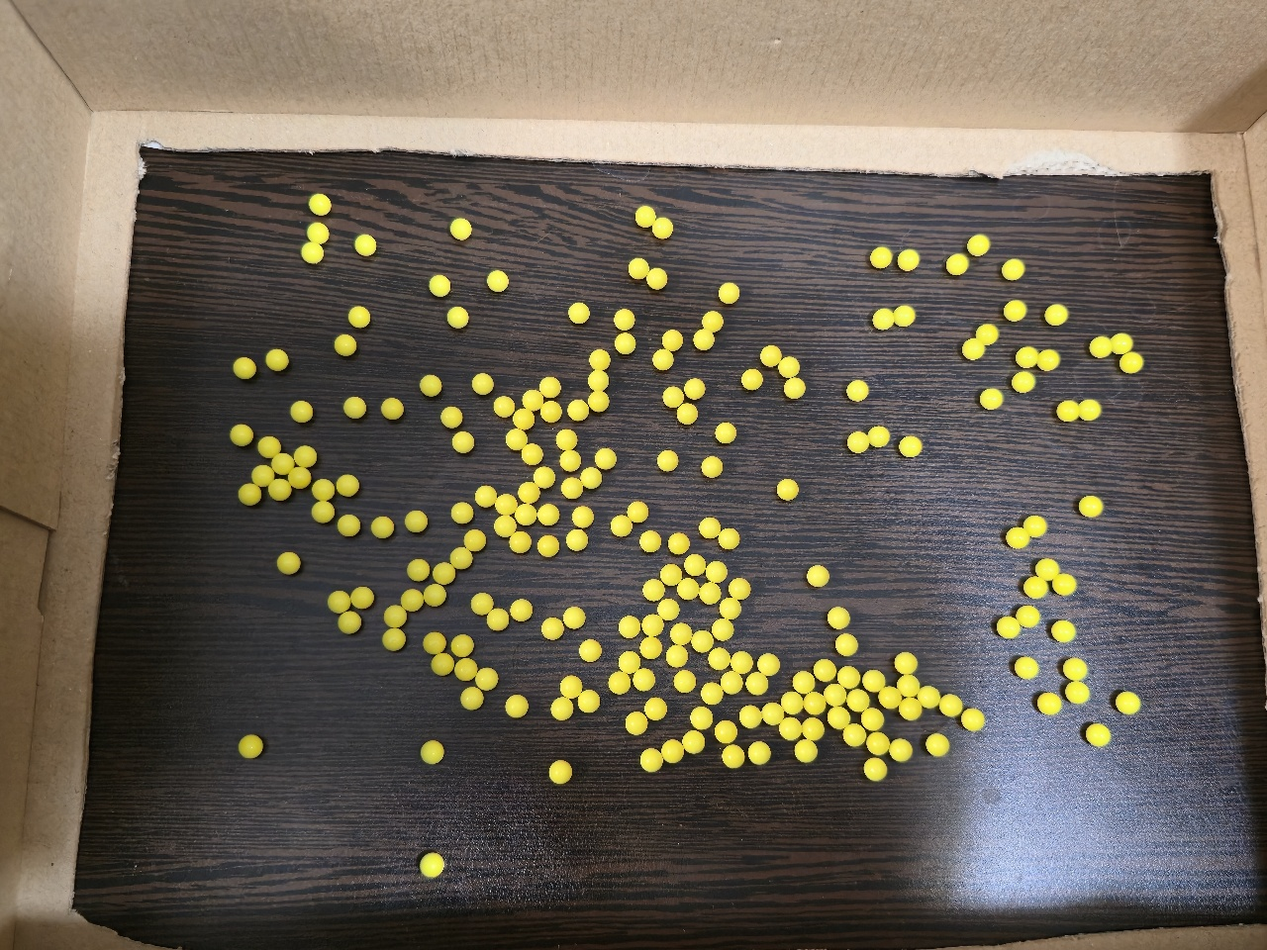yellow_bead: (967, 329, 993, 354), (1021, 352, 1053, 365), (1062, 405, 1096, 416), (1095, 340, 1121, 352), (426, 858, 439, 873), (1092, 728, 1106, 741), (1121, 697, 1135, 710), (244, 740, 257, 753), (931, 739, 944, 752), (1029, 582, 1043, 594), (1040, 564, 1054, 576), (869, 764, 882, 776), (872, 737, 884, 750), (944, 700, 957, 712), (1043, 699, 1056, 711), (786, 697, 798, 710), (1071, 687, 1084, 699), (798, 676, 810, 689), (1057, 625, 1070, 637), (1002, 621, 1015, 633), (897, 310, 910, 322), (1068, 664, 1082, 675), (554, 767, 566, 779), (753, 747, 765, 759), (800, 745, 812, 757), (895, 744, 907, 756), (849, 729, 861, 741), (785, 723, 797, 735), (968, 714, 980, 726), (867, 713, 879, 725), (809, 698, 821, 710), (852, 695, 864, 707), (923, 691, 935, 703), (829, 689, 841, 701), (903, 680, 915, 692), (751, 678, 763, 690), (1021, 662, 1033, 674), (900, 657, 912, 669), (714, 653, 726, 665), (388, 633, 400, 645), (717, 623, 729, 635), (645, 754, 656, 767), (1012, 532, 1025, 543), (1028, 521, 1041, 532), (1084, 501, 1097, 512), (878, 314, 891, 325), (1050, 309, 1063, 320), (1009, 305, 1022, 316), (307, 245, 318, 258), (427, 747, 438, 759), (666, 746, 677, 758), (688, 736, 699, 748), (833, 712, 845, 723), (905, 703, 916, 715), (511, 701, 523, 712), (583, 696, 594, 708), (466, 693, 477, 705), (884, 692, 896, 703), (614, 677, 625, 689), (679, 676, 690, 688), (868, 675, 880, 686), (638, 674, 649, 686), (481, 673, 492, 685), (842, 672, 854, 683), (671, 650, 682, 662), (697, 635, 708, 647), (675, 628, 687, 639), (1022, 611, 1034, 622), (389, 611, 401, 622), (476, 598, 487, 610), (406, 595, 418, 606), (704, 588, 716, 599), (318, 506, 329, 518), (872, 431, 884, 442), (973, 239, 985, 250), (744, 712, 757, 722), (985, 394, 998, 404), (1124, 357, 1137, 367), (807, 724, 818, 735), (696, 712, 707, 723), (556, 703, 567, 714), (565, 682, 576, 693), (819, 665, 830, 676), (460, 664, 471, 675), (735, 657, 746, 668), (841, 639, 852, 650), (546, 623, 557, 634), (663, 605, 674, 616), (356, 592, 367, 603), (429, 590, 440, 601), (648, 585, 659, 596), (683, 584, 694, 595), (813, 571, 824, 582), (413, 565, 424, 576), (690, 560, 701, 571), (455, 552, 466, 563), (469, 535, 480, 546), (571, 534, 582, 545), (456, 508, 467, 519), (480, 491, 491, 502), (274, 484, 285, 495), (341, 480, 352, 491), (538, 472, 549, 483), (257, 470, 268, 481), (905, 441, 916, 452), (511, 434, 522, 445), (1018, 376, 1029, 387), (271, 354, 282, 365), (952, 258, 963, 269), (876, 251, 887, 262), (360, 239, 371, 250), (728, 751, 738, 763), (631, 717, 641, 729), (766, 709, 778, 719), (726, 677, 736, 689), (763, 659, 773, 671), (624, 656, 634, 668), (645, 642, 655, 654), (647, 619, 657, 631), (832, 613, 844, 623), (725, 603, 735, 615), (334, 596, 344, 608), (299, 451, 311, 461), (852, 437, 864, 447), (593, 374, 603, 386), (1008, 264, 1020, 274), (903, 254, 915, 264), (313, 228, 323, 240), (721, 726, 731, 737), (707, 689, 717, 700), (585, 645, 595, 656), (458, 640, 468, 651), (429, 638, 439, 649), (624, 621, 634, 632), (343, 617, 354, 627), (492, 614, 503, 624), (568, 613, 579, 623), (516, 605, 526, 616), (734, 584, 744, 595), (665, 570, 676, 580), (439, 568, 449, 579), (711, 566, 721, 577), (283, 558, 294, 568), (542, 541, 553, 551), (515, 537, 525, 548), (645, 536, 655, 547), (343, 520, 354, 530), (411, 516, 422, 526), (577, 512, 588, 522), (521, 510, 532, 520), (500, 500, 511, 510), (524, 487, 534, 498), (318, 484, 329, 494), (277, 458, 288, 468), (600, 453, 611, 463), (263, 442, 274, 452), (457, 437, 468, 447), (296, 407, 307, 417), (573, 405, 583, 416), (349, 403, 360, 413), (852, 386, 863, 396), (477, 379, 488, 389), (452, 312, 462, 323), (354, 312, 364, 323), (455, 224, 466, 234), (315, 199, 325, 210), (708, 317, 717, 329), (650, 704, 660, 714), (673, 539, 683, 549), (705, 523, 715, 533), (377, 522, 387, 532), (500, 521, 510, 531), (543, 510, 553, 520), (782, 485, 792, 495), (586, 473, 596, 483), (707, 462, 717, 472), (662, 456, 672, 466), (565, 455, 575, 465), (561, 435, 571, 445), (236, 429, 246, 439), (721, 428, 731, 438), (519, 414, 529, 424), (446, 413, 456, 423), (682, 409, 692, 419), (545, 407, 555, 417), (387, 404, 397, 414), (593, 396, 603, 406), (668, 392, 678, 402), (789, 383, 799, 393), (426, 381, 436, 391), (747, 375, 757, 385), (239, 363, 249, 373), (595, 355, 605, 365), (658, 354, 668, 364), (340, 340, 350, 350), (621, 338, 631, 348), (667, 335, 677, 345), (574, 308, 584, 318), (493, 276, 503, 286), (634, 263, 644, 273), (657, 223, 667, 233), (640, 211, 650, 221), (437, 659, 446, 670), (724, 533, 733, 544), (566, 484, 577, 493), (699, 333, 708, 344), (435, 280, 444, 291), (616, 522, 626, 531), (633, 508, 642, 518), (244, 489, 253, 499), (527, 449, 536, 459), (499, 402, 509, 411), (528, 395, 537, 405), (544, 383, 554, 392), (784, 362, 793, 372), (620, 315, 629, 325), (724, 288, 733, 298), (652, 273, 661, 283), (690, 384, 699, 393), (766, 351, 775, 360), (1064, 580, 1072, 589), (294, 472, 304, 478)
